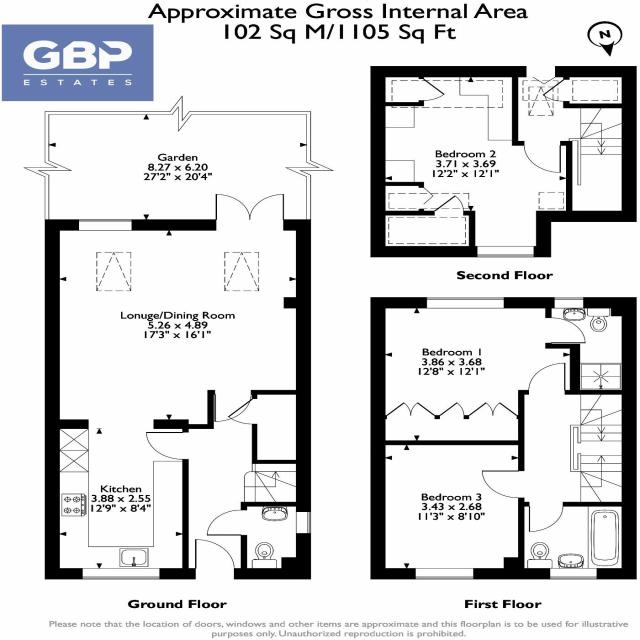DOOR: (193, 538, 237, 579), (525, 361, 568, 395), (144, 429, 189, 461), (480, 469, 525, 500), (523, 501, 565, 533), (522, 141, 562, 174), (205, 506, 248, 536), (545, 316, 587, 345)
DOUBLE DOOR: (214, 192, 286, 231)
ROOM: (45, 192, 312, 581), (370, 66, 573, 258), (370, 297, 587, 446), (371, 439, 525, 580)
WINDOW: (81, 568, 163, 581), (424, 296, 506, 309), (411, 568, 476, 581), (476, 245, 536, 258), (77, 219, 133, 231), (547, 567, 598, 580), (295, 510, 312, 535), (552, 297, 585, 309)
